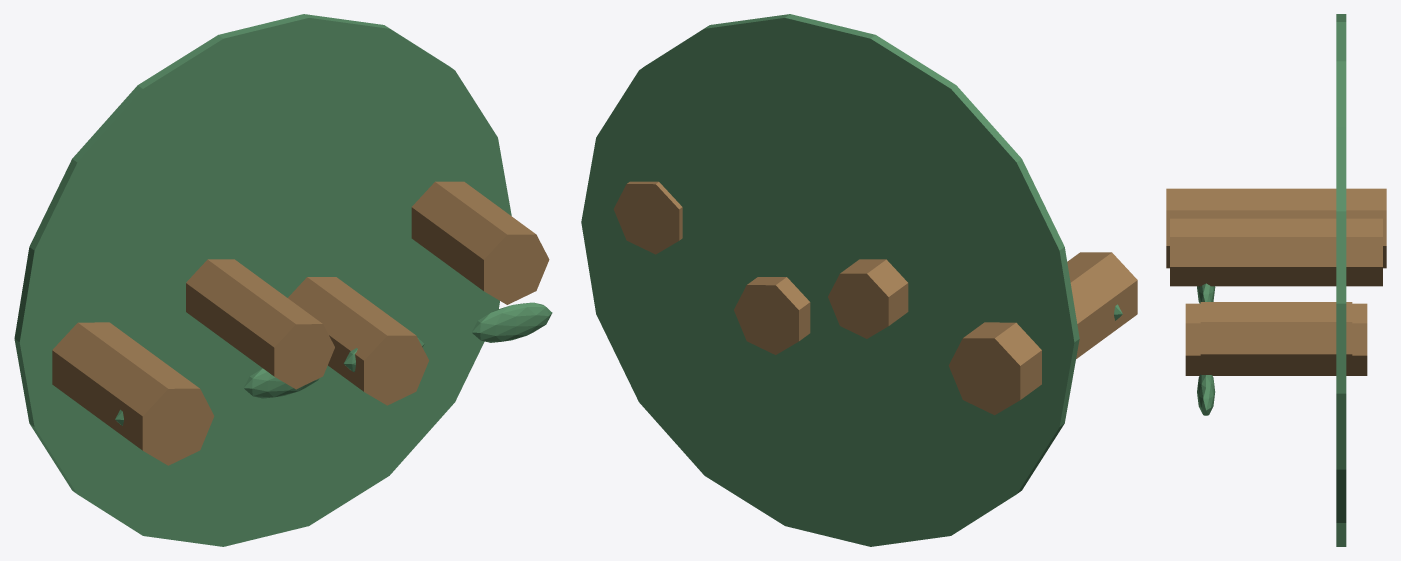
File: 02_display_prop_cluster.glb
3 views of the same model, side by side, from view 1: azimuth 30°, elevation 25°; view 2: azimuth 150°, elevation 25°; view 3: azimuth 270°, elevation 25° (orthographic). The views are drawn at different scales.
Parts seen in each view (by area): view 1: scatter_base, root_stump_0, root_stump_1, root_stump_3, root_stump_2, moss_3, moss_1; view 2: scatter_base, root_stump_0, root_stump_1, root_stump_2, root_stump_3; view 3: root_stump_1, root_stump_3, root_stump_0, scatter_base, root_stump_2, moss_3, moss_1.
Part boxes in pixels (x1=…): scatter_base: x1=14, y1=14, x2=511, y2=546; root_stump_0: x1=52, y1=322, x2=214, y2=465; root_stump_1: x1=186, y1=259, x2=334, y2=389; root_stump_3: x1=411, y1=181, x2=549, y2=304; root_stump_2: x1=288, y1=277, x2=428, y2=405; moss_3: x1=471, y1=302, x2=552, y2=342; moss_1: x1=243, y1=368, x2=318, y2=398; scatter_base: x1=581, y1=14, x2=1079, y2=546; root_stump_0: x1=948, y1=252, x2=1137, y2=415; root_stump_1: x1=828, y1=259, x2=908, y2=338; root_stump_2: x1=734, y1=277, x2=810, y2=354; root_stump_3: x1=613, y1=181, x2=682, y2=254; root_stump_1: x1=1170, y1=218, x2=1382, y2=286; root_stump_3: x1=1200, y1=302, x2=1352, y2=374; root_stump_0: x1=1166, y1=188, x2=1386, y2=268; scatter_base: x1=1336, y1=14, x2=1346, y2=546; root_stump_2: x1=1185, y1=303, x2=1367, y2=375; moss_3: x1=1197, y1=374, x2=1215, y2=415; moss_1: x1=1197, y1=283, x2=1215, y2=303.
Bounding box in the file's own units: 1.9 × 1.87 × 0.7834.
